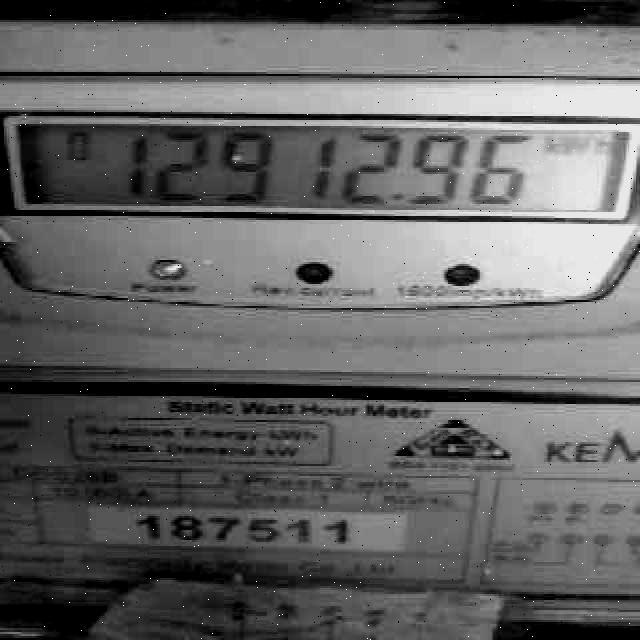LCD: (1, 98, 636, 231)
